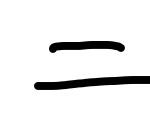eqv: (35, 41, 150, 90)
